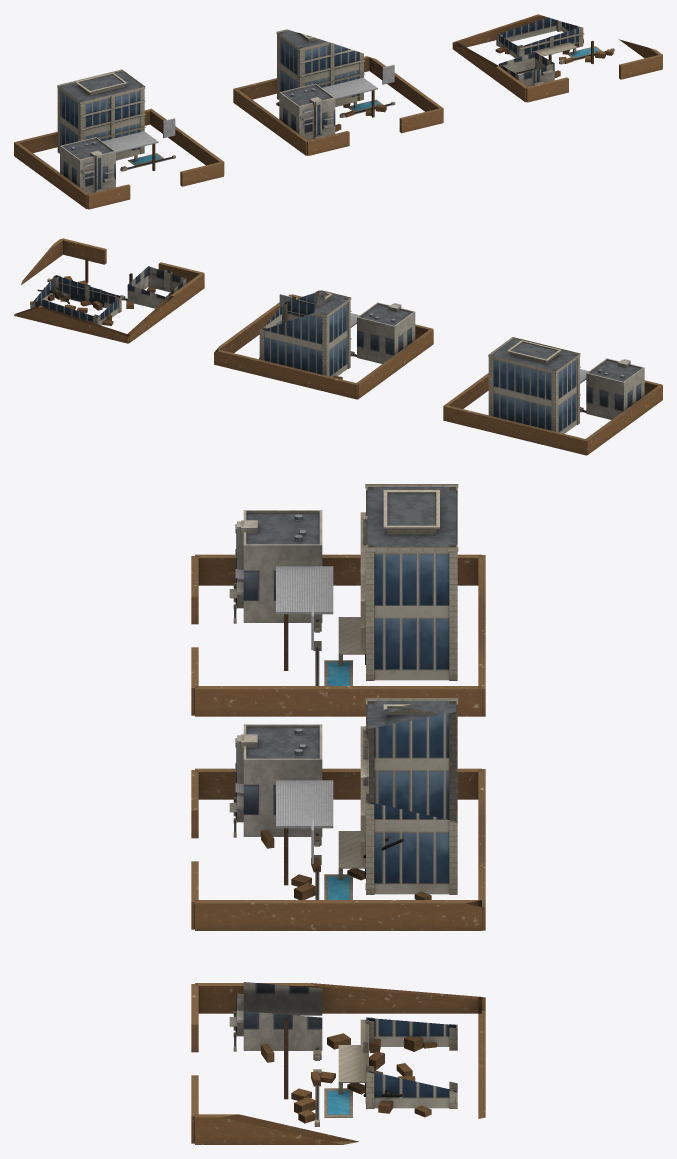
The model's file is civic-modern-sinic.glb.
The picture shows the model from 3 angles, top to bottom: view 1: azimuth 30°, elevation 25°; view 2: azimuth 150°, elevation 25°; view 3: azimuth 270°, elevation 25°; orthographic projection. The views are drawn at different scales.
Parts seen in each view (by area): view 1: LOD0, LOD0.001, LOD0.002; view 2: LOD0, LOD0.001, LOD0.002; view 3: LOD0.001, LOD0, LOD0.002.
Boxes of the visible parts, bbox=[...] form: LOD0: bbox=[14, 69, 224, 209]; LOD0.001: bbox=[233, 29, 443, 155]; LOD0.002: bbox=[452, 14, 662, 102]; LOD0: bbox=[443, 337, 662, 455]; LOD0.001: bbox=[214, 290, 433, 399]; LOD0.002: bbox=[14, 238, 204, 343]; LOD0.001: bbox=[191, 698, 485, 930]; LOD0: bbox=[191, 484, 485, 716]; LOD0.002: bbox=[191, 982, 485, 1144].
Size of what is drawn, in the model's own units: 7.89 by 0.92 by 1.74.
2 materials, 2 textured.
